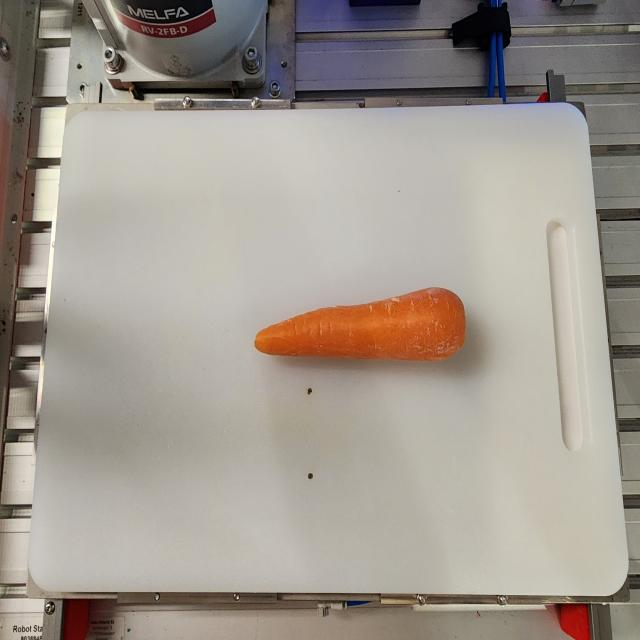carrot: (254, 286, 466, 362)
